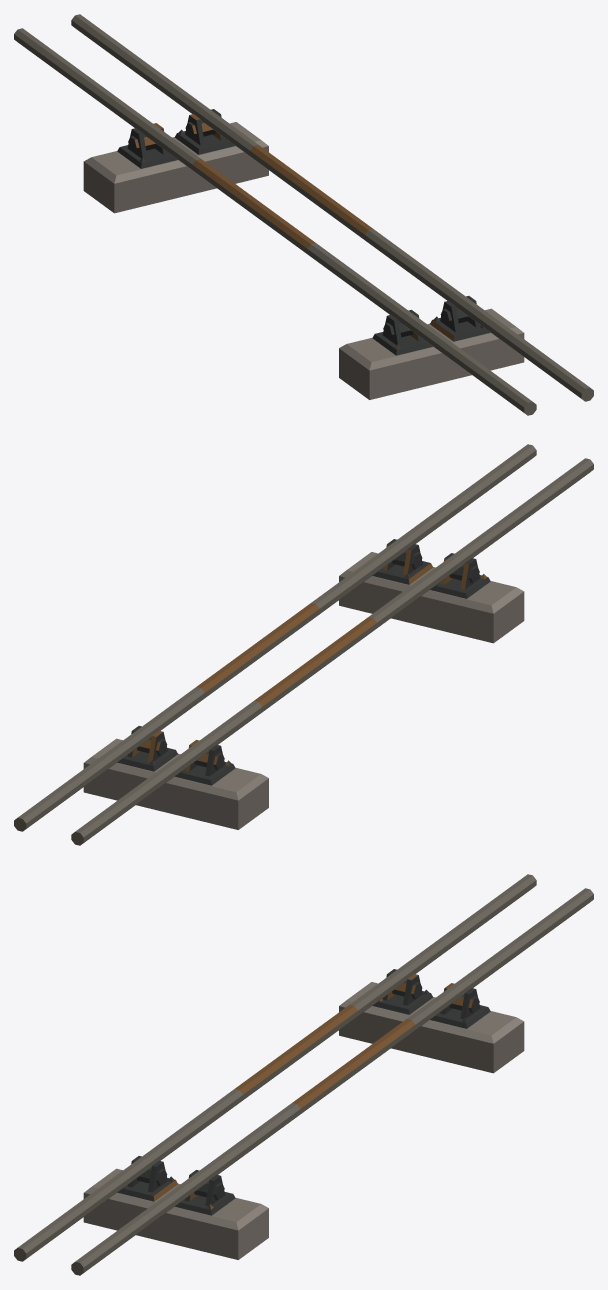
File: point-rodding-run-92081f.glb
The picture shows the model from 3 angles, top to bottom: view 1: azimuth 30°, elevation 25°; view 2: azimuth 150°, elevation 25°; view 3: azimuth 330°, elevation 25°; orthographic projection.
Visible parts, largest first — view 1: point-rodding; view 2: point-rodding; view 3: point-rodding.
Boxes of the visible parts, x1,y1,x2,y2 form: point-rodding: (14, 14, 593, 415); point-rodding: (14, 444, 593, 845); point-rodding: (14, 874, 593, 1275).
Size of the model in its own units: 0.7 by 0.2947 by 4.
